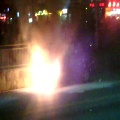fire: (24, 45, 59, 93)
